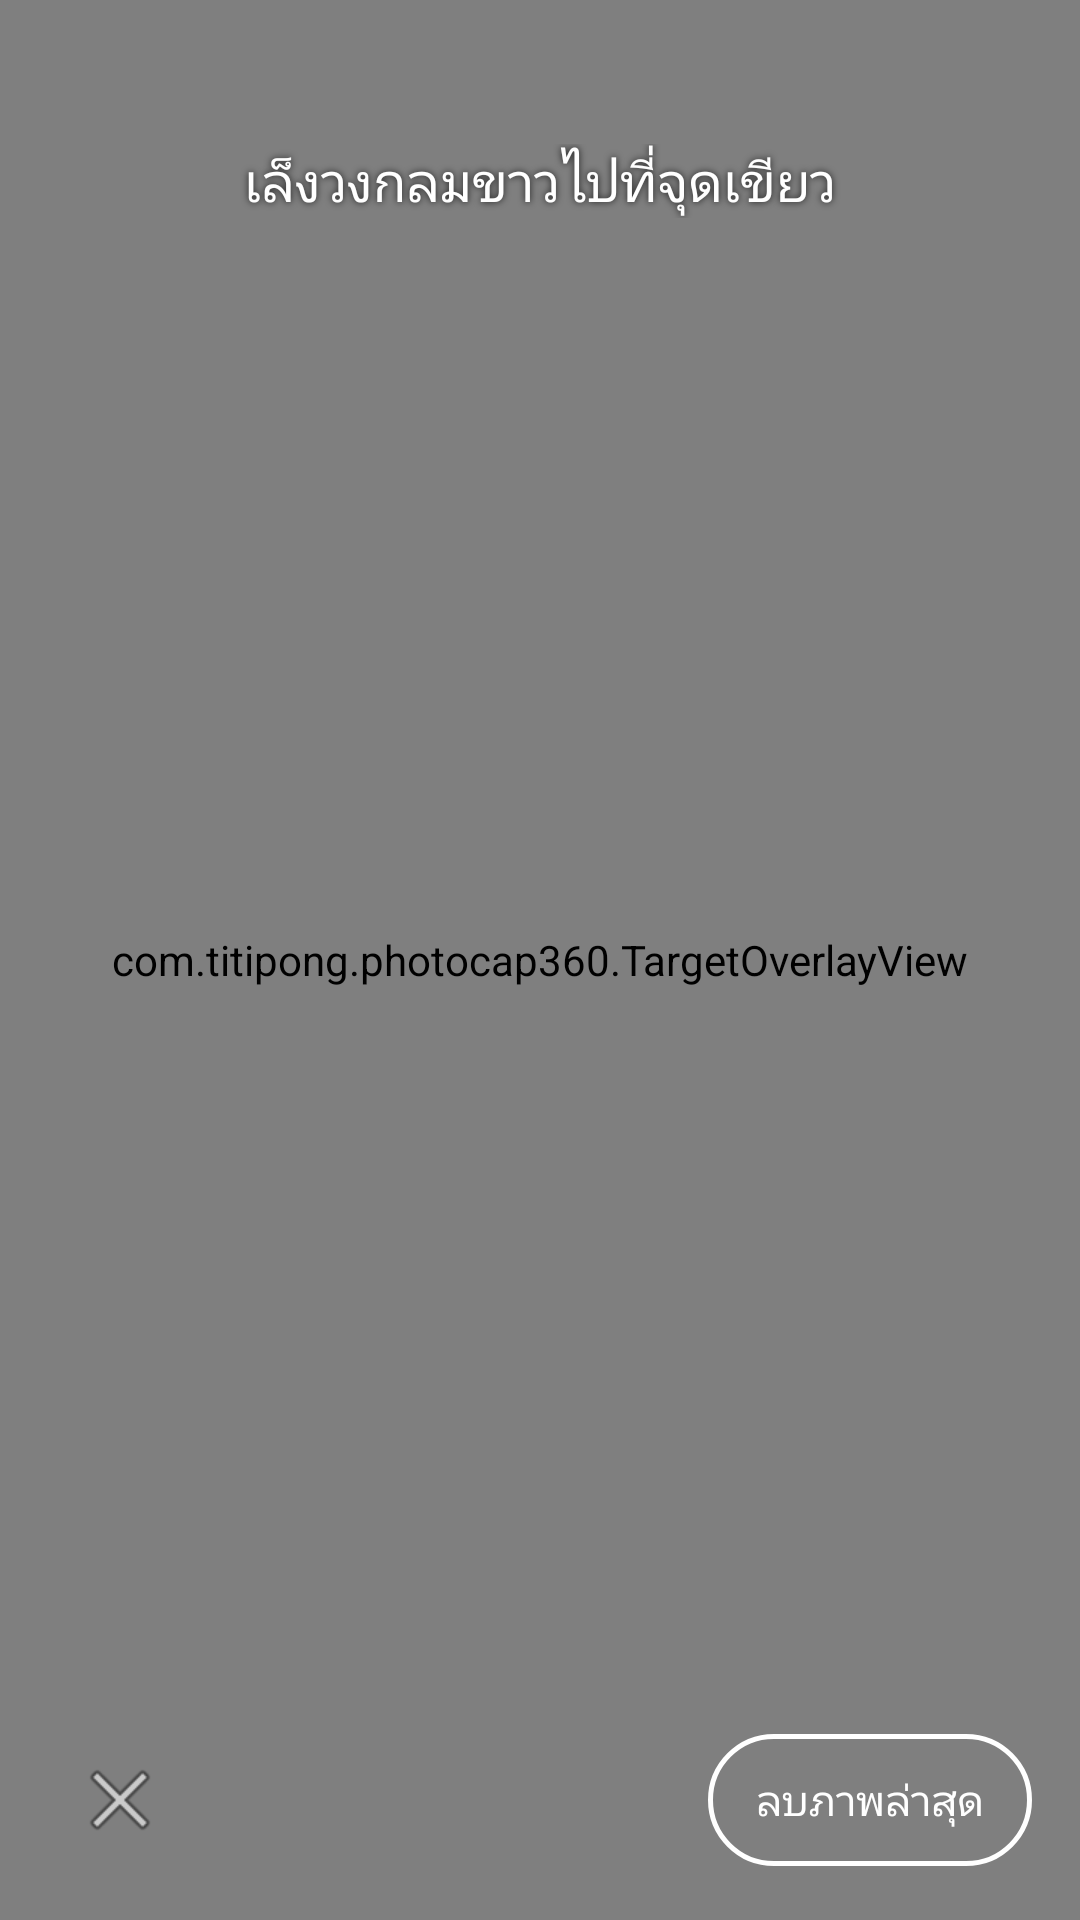

Icons on this 1080px×1920px Android screen, each with its box as (x1, y1, x2, y2):
close: (90, 1770, 150, 1830)
